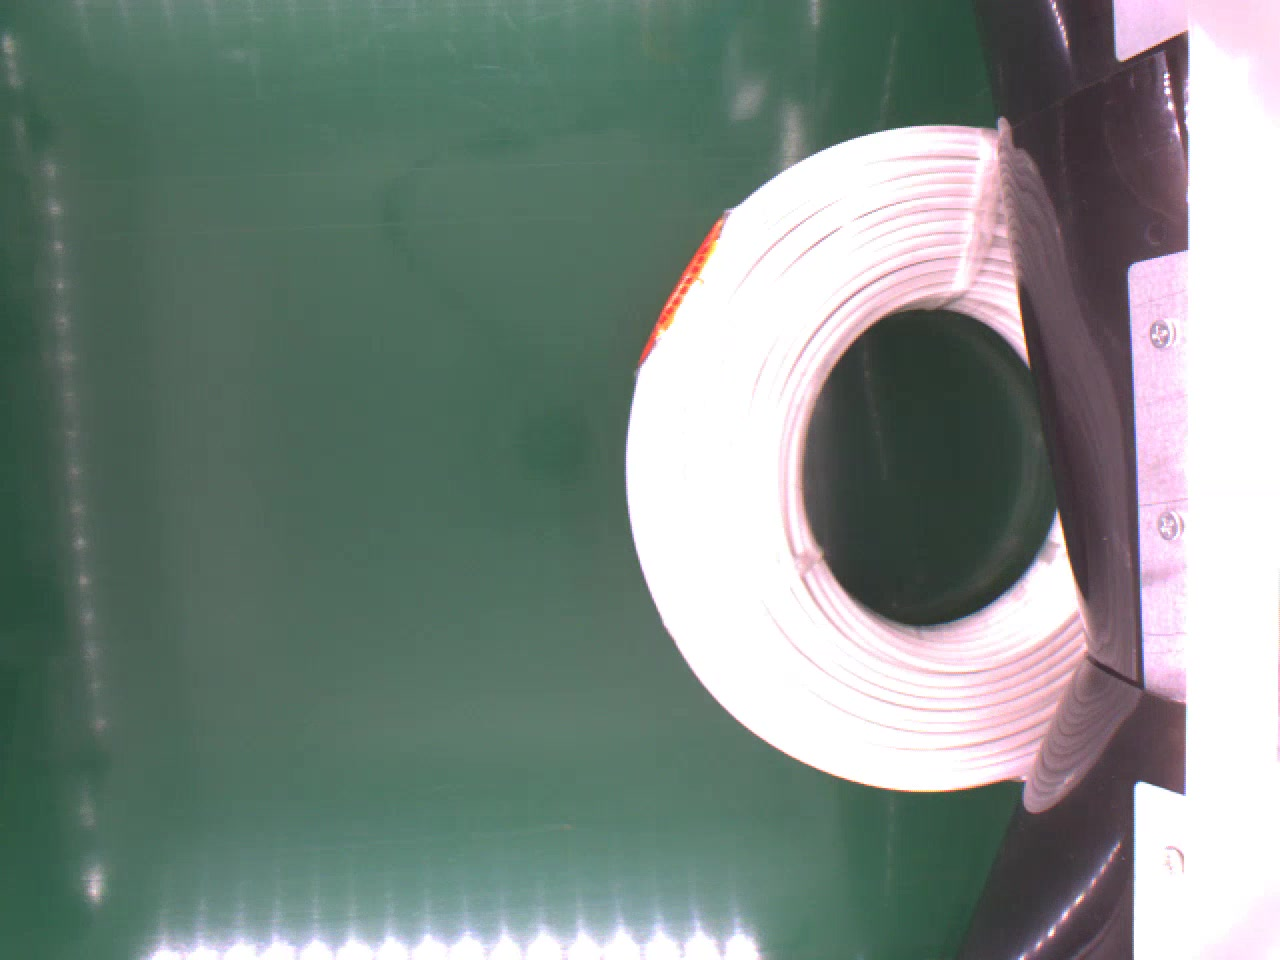white: (623, 119, 1092, 802)
